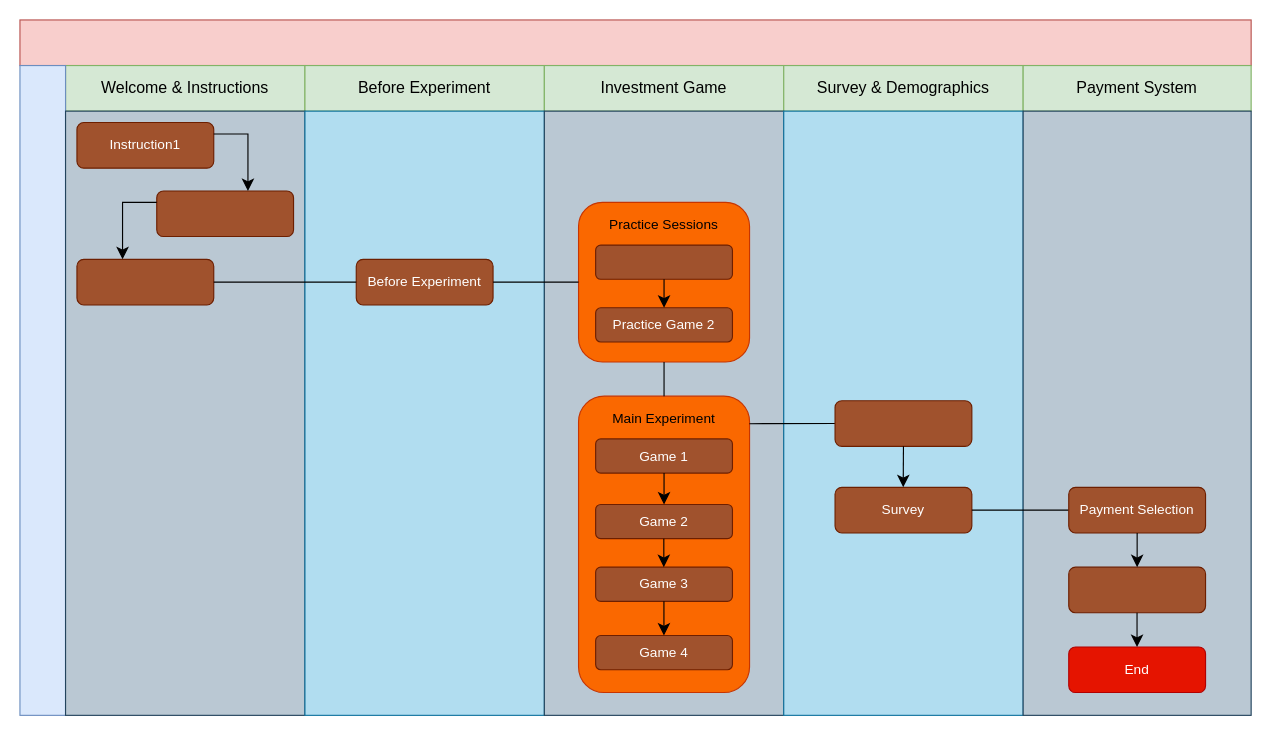
The diagram is 1271 pixels wide and 735 high, and some of its shapes have lost their labels. Here are the shapes that lost their labels. From the top down, the box of each, then its label:
(19, 19, 1251, 66): Poor Assistance Experiment
(156, 190, 294, 237): Instruction2
(76, 258, 214, 305): Confirmation
(595, 244, 732, 279): Practice Game 1
(19, 64, 66, 715): Player
(834, 400, 972, 446): Demographics
(1068, 566, 1206, 613): Final Payment
